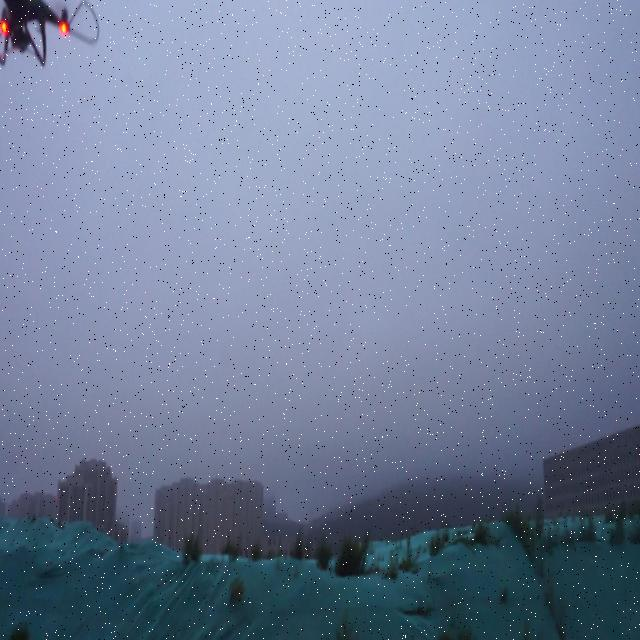UAV: (0, 0, 100, 68)
